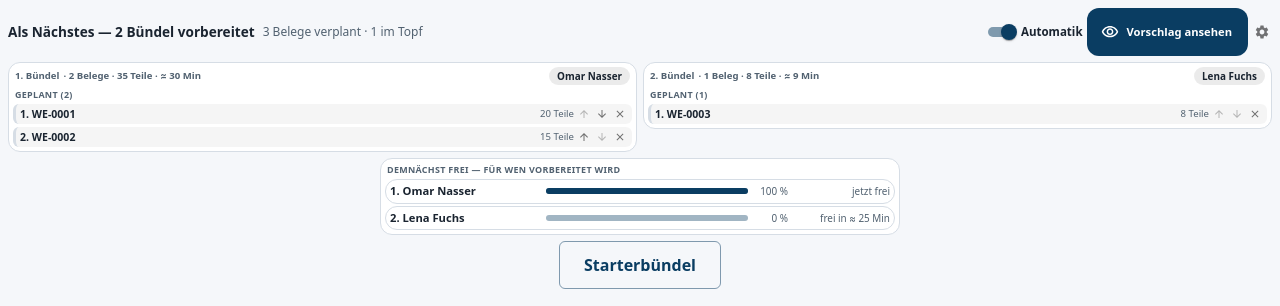
Scenario: VorverteilungPane › Starter-Vorschlag: orange bis zum Klick — dann übernommen (einzeln verifizieren)
Click the button "Starterbündel" at x=640, y=265, box 559,241 -> 721,289
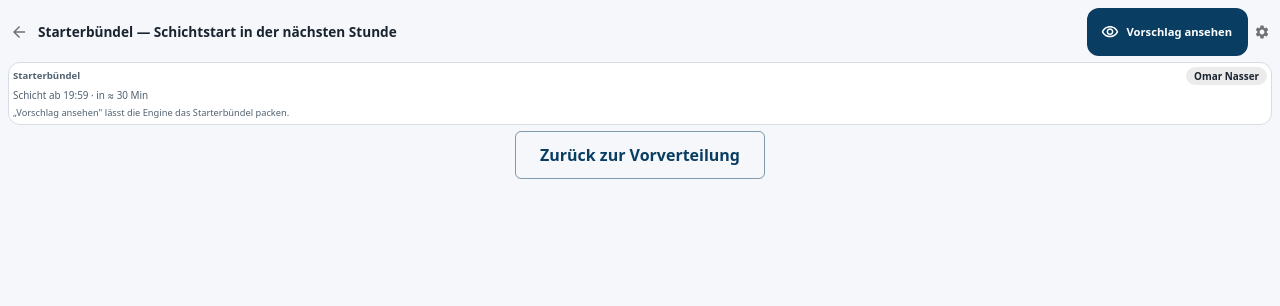
Click the button "Vorschlag ansehen" at x=1167, y=32, box 1086,8 -> 1248,56
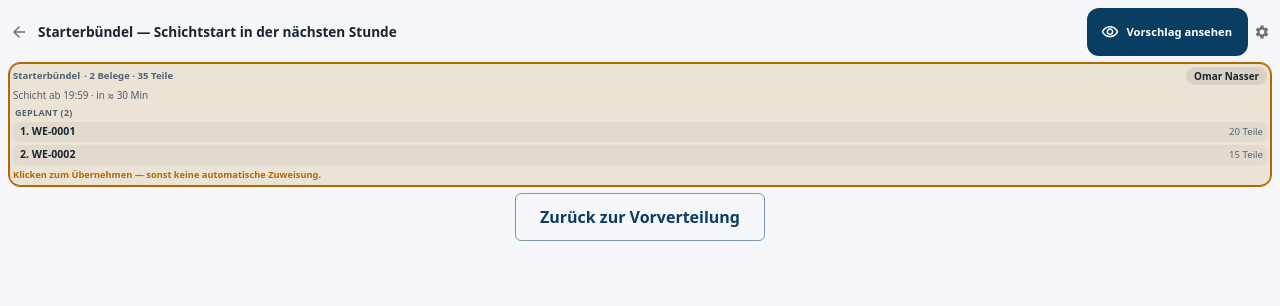
Result: the text "1. WE-0001" is shown at 20,124 -> 75,138
Result: the text "Klicken zum Übernehmen — sonst keine automatische Zuweisung." is shown at 13,168 -> 321,181
Click the button with aria-label "Starterbündel für Omar Nasser übernehmen" at x=640, y=125, box 8,62 -> 1272,187
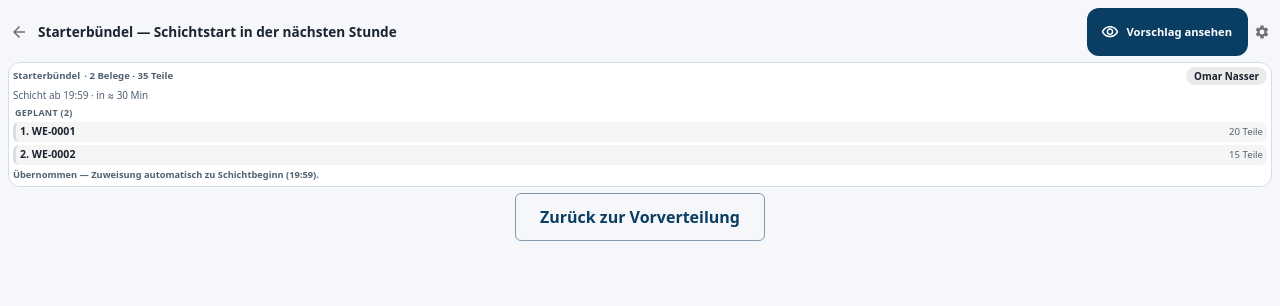
Result: the text "Übernommen — Zuweisung automatisch zu Schichtbeginn (19:59)." is shown at 13,168 -> 319,181
